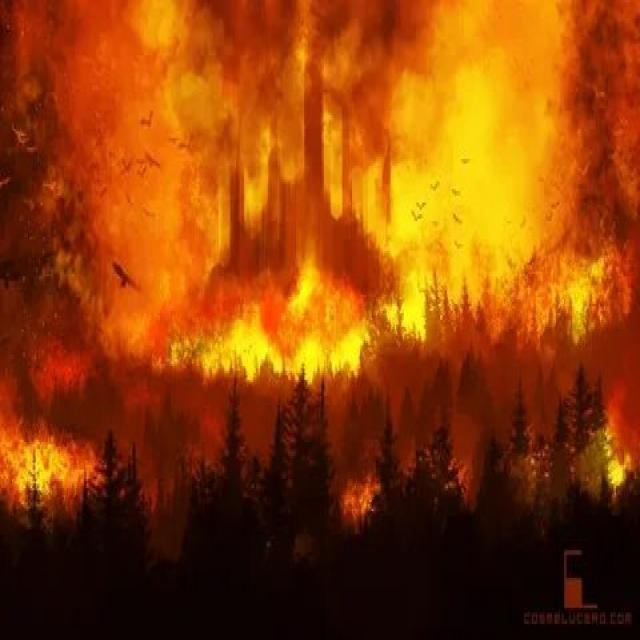Fire: (116, 0, 640, 397), (0, 401, 166, 528)
